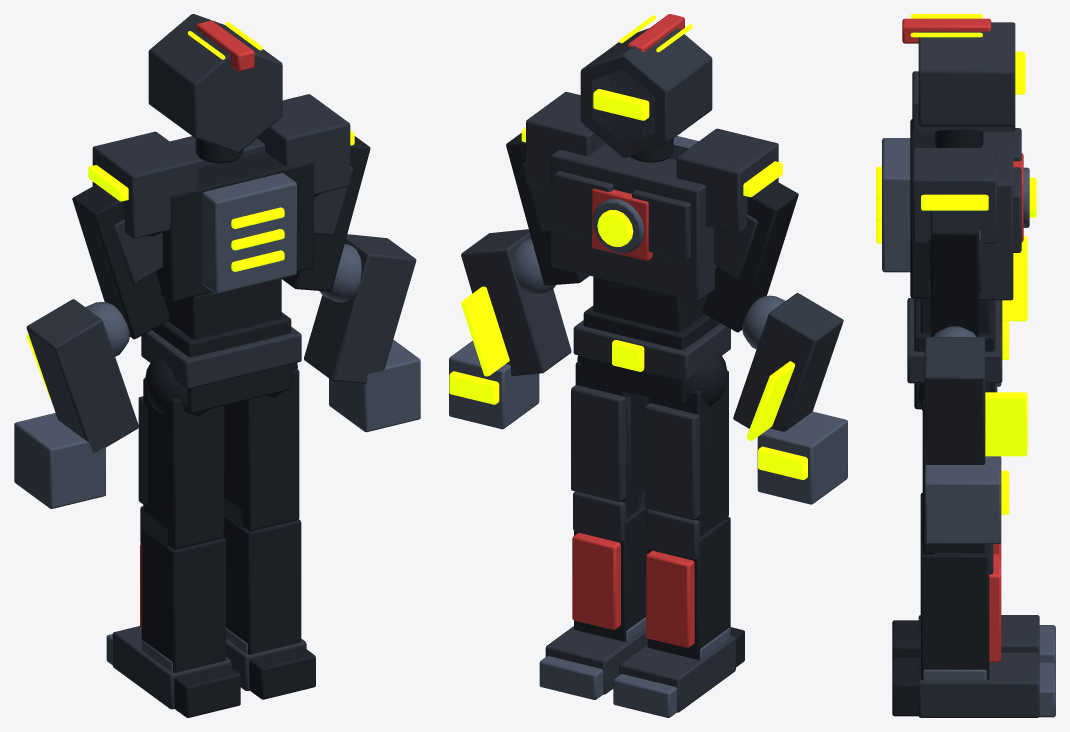
Rendered from char_circuit.glb.
3 renders of one model, left to right at view 1: azimuth 30°, elevation 25°; view 2: azimuth 150°, elevation 25°; view 3: azimuth 270°, elevation 25°, orthographic. The views are drawn at different scales.
Parts seen in each view (by area): view 1: char_circuit; view 2: char_circuit; view 3: char_circuit.
Part boxes in pixels (bbox=[...]): char_circuit: bbox=[14, 14, 420, 717]; char_circuit: bbox=[449, 14, 847, 717]; char_circuit: bbox=[876, 14, 1055, 717].
Bounding box in the file's own units: 1.09 × 1.81 × 0.445.
